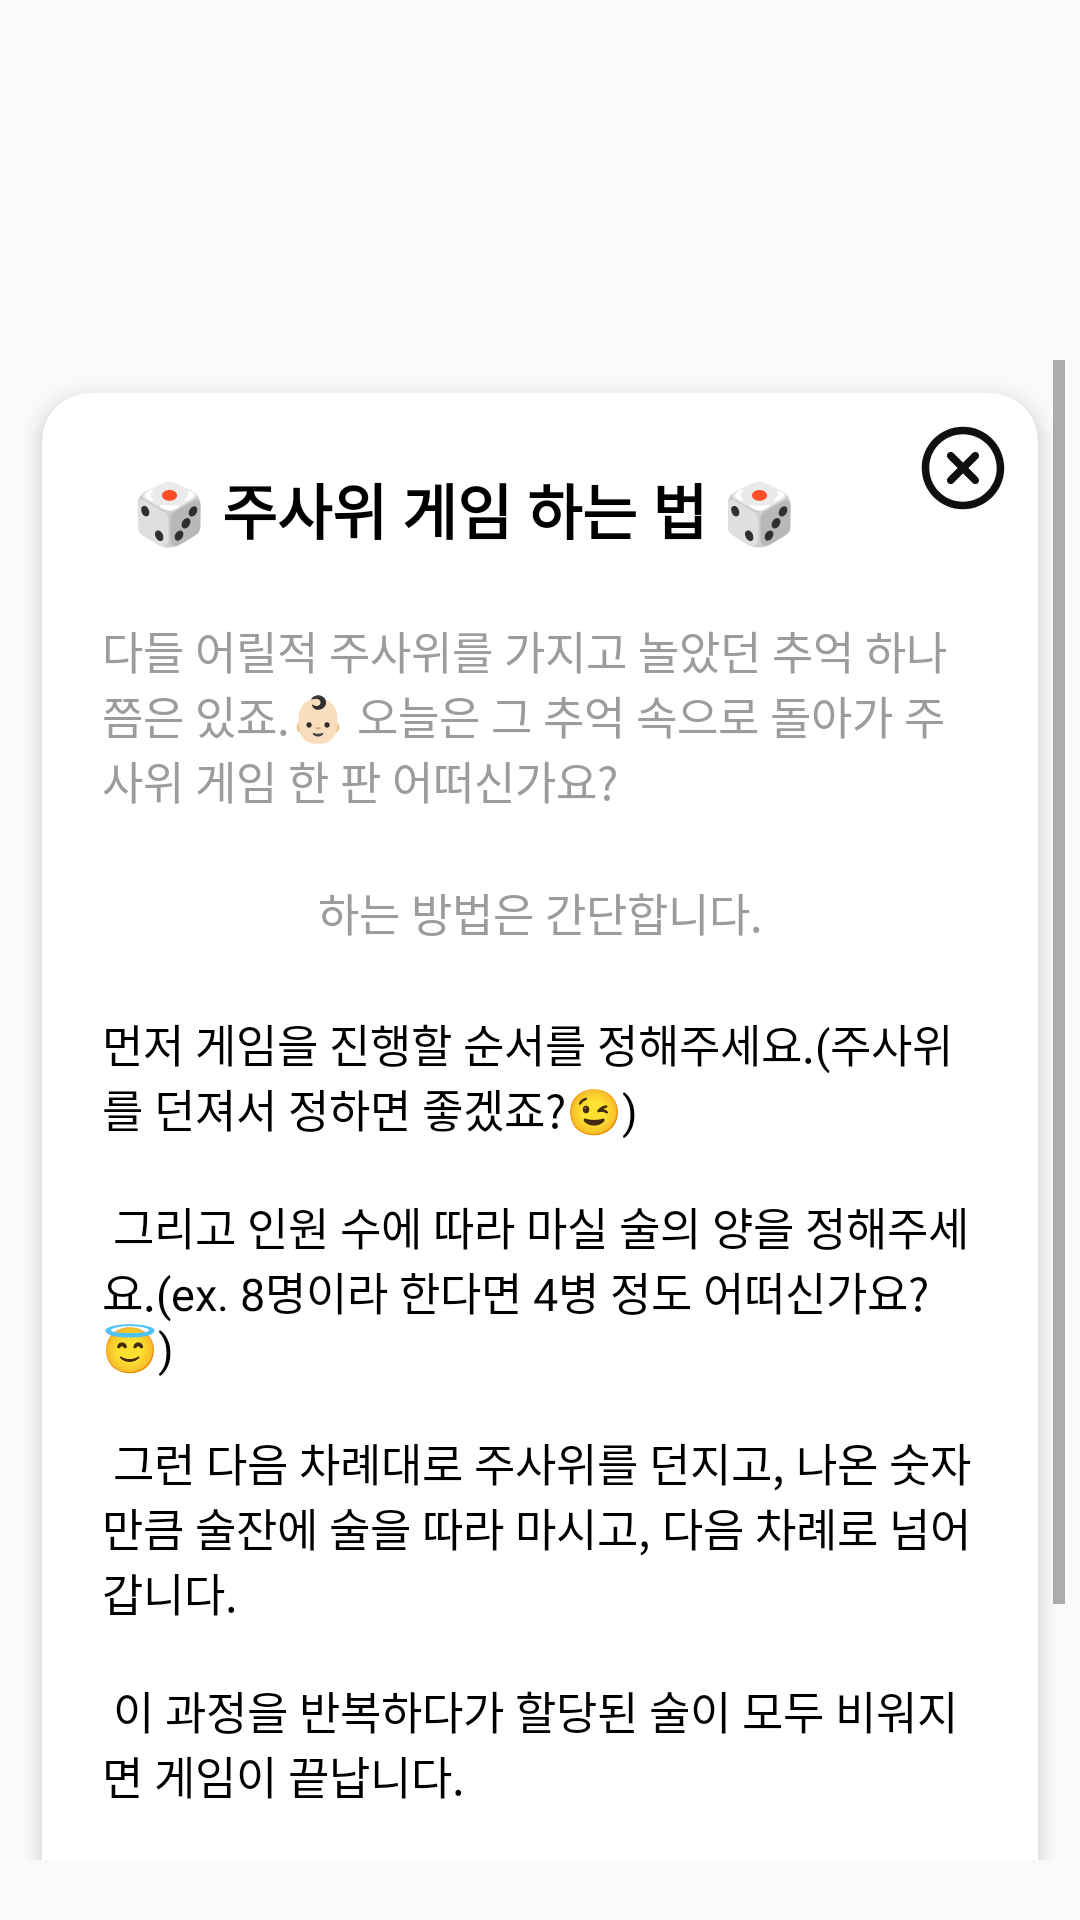

Screen size 1080×1920. Icon name, then its center in pixels as (x,y):
close button: (963,468)
